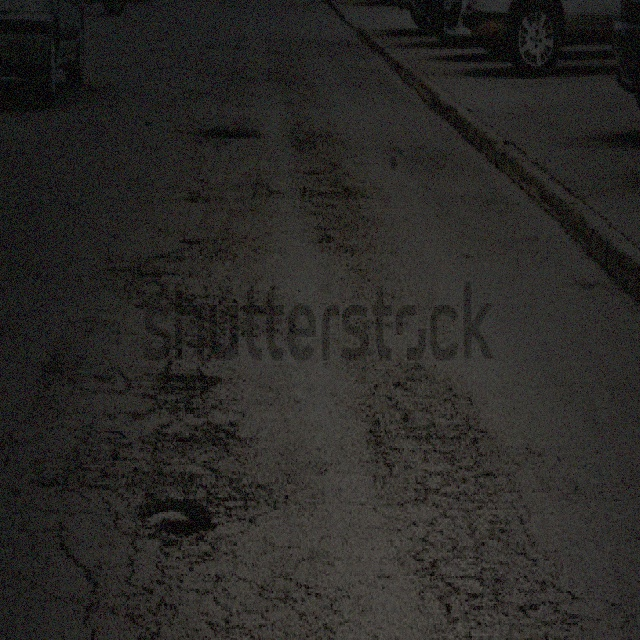pothole: (137, 493, 215, 542), (196, 119, 262, 143)
